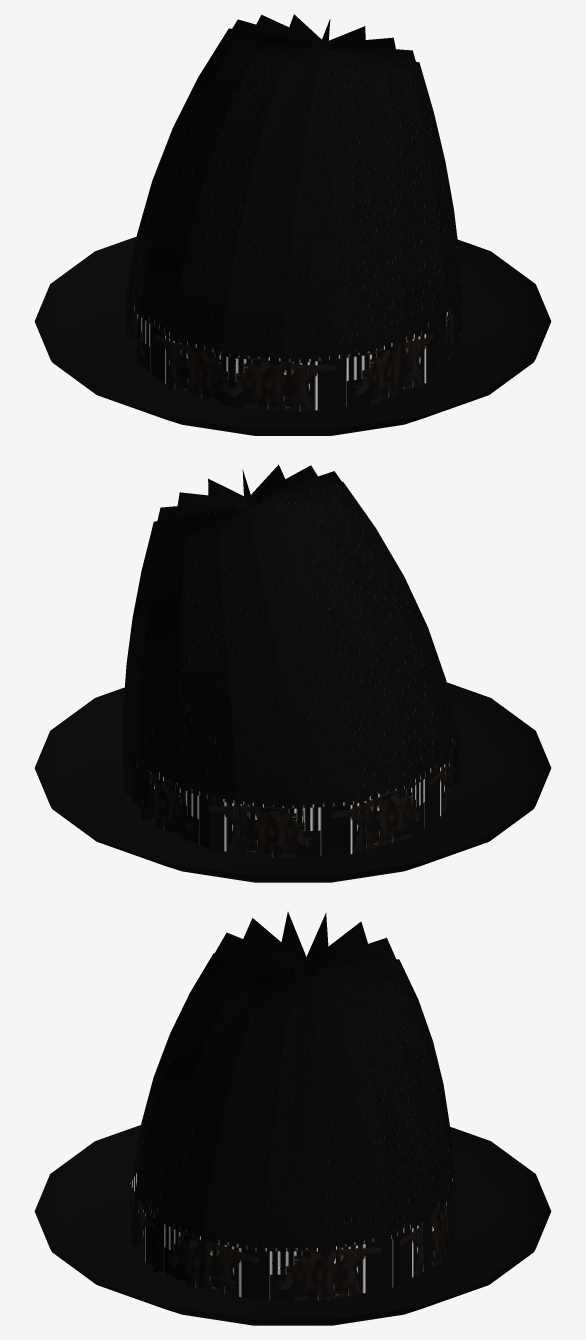
File: Hoplite-v008.fbx
The picture shows the model from 3 angles, top to bottom: view 1: azimuth 30°, elevation 25°; view 2: azimuth 150°, elevation 25°; view 3: azimuth 270°, elevation 25°; orthographic projection.
Visible parts, largest first — view 1: Rain, Background; view 2: Rain, Background; view 3: Rain, Background.
Boxes of the visible parts, <box> form: Rain: <box>125,14,462,412</box>; Background: <box>34,236,551,435</box>; Rain: <box>122,464,460,859</box>; Background: <box>34,682,551,882</box>; Rain: <box>131,912,454,1300</box>; Background: <box>34,1125,551,1325</box>.
Size of the model in its own units: 9662 by 5866 by 9812.
